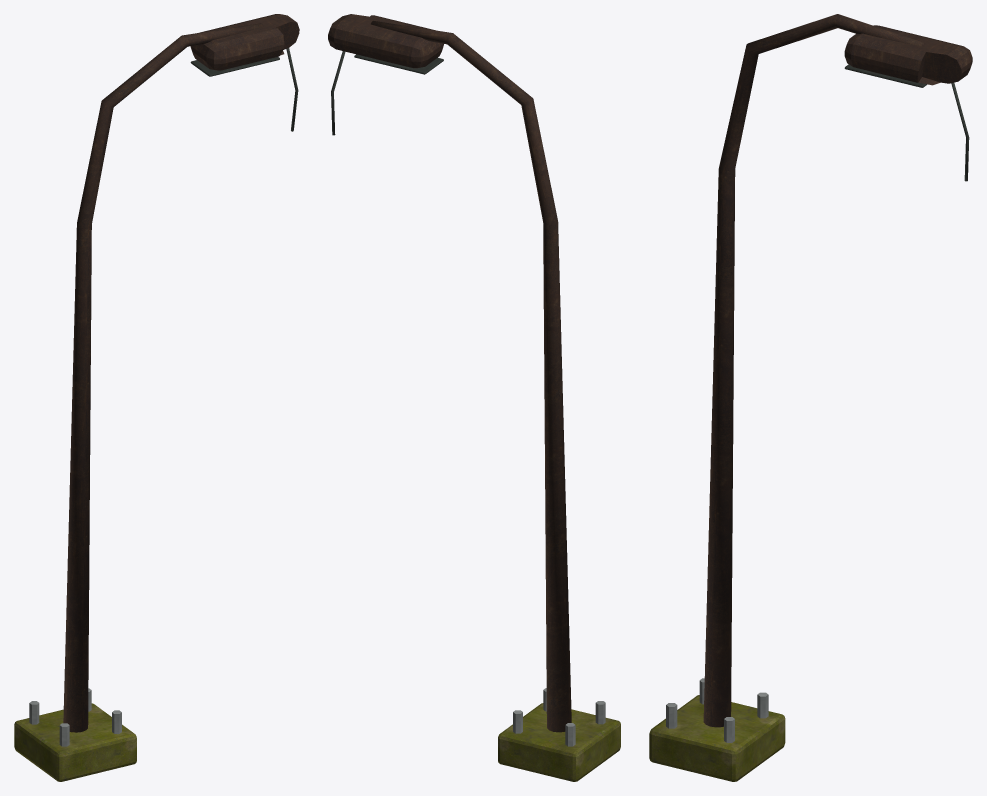
The model's file is lod0_NOT_APPROVED.glb.
3 views of the same model, side by side, from view 1: azimuth 30°, elevation 25°; view 2: azimuth 150°, elevation 25°; view 3: azimuth 330°, elevation 25° (orthographic). The views are drawn at different scales.
Parts seen in each view (by area): view 1: f3_oxidized_iron_surface, f3_damp_concrete_surface, f3_bare_worn_steel_surface; view 2: f3_oxidized_iron_surface, f3_damp_concrete_surface, f3_bare_worn_steel_surface; view 3: f3_oxidized_iron_surface, f3_damp_concrete_surface, f3_bare_worn_steel_surface.
Boxes of the visible parts, <box> form: f3_oxidized_iron_surface: <box>63,14,299,732</box>; f3_damp_concrete_surface: <box>14,703,136,781</box>; f3_bare_worn_steel_surface: <box>29,688,121,746</box>; f3_oxidized_iron_surface: <box>328,14,571,732</box>; f3_damp_concrete_surface: <box>498,703,620,781</box>; f3_bare_worn_steel_surface: <box>513,688,605,746</box>; f3_oxidized_iron_surface: <box>703,14,972,727</box>; f3_damp_concrete_surface: <box>649,695,785,781</box>; f3_bare_worn_steel_surface: <box>666,678,768,742</box>.
Bounding box in the file's own units: 1.82 × 4.58 × 0.55.
Materials: 5 (5 with a texture image).
